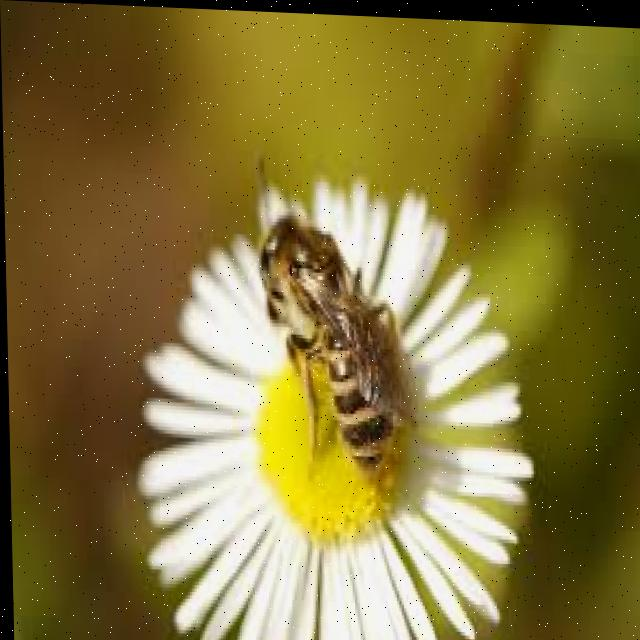Seladonia: (247, 166, 434, 475)
